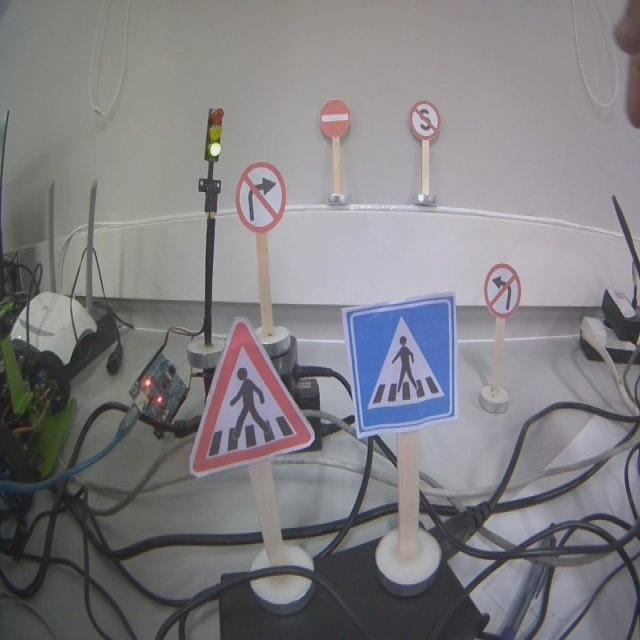Dilarang Belok Kanan: (235, 163, 287, 233)
Dilarang Belok Kiri: (484, 264, 521, 316)
Dilarang Masuk: (319, 100, 350, 137)
Lampu Hijau: (204, 108, 223, 161)
Rambu Berhenti: (409, 100, 440, 141)
Rambu Penyebrangan: (188, 317, 314, 475), (341, 290, 458, 434)
